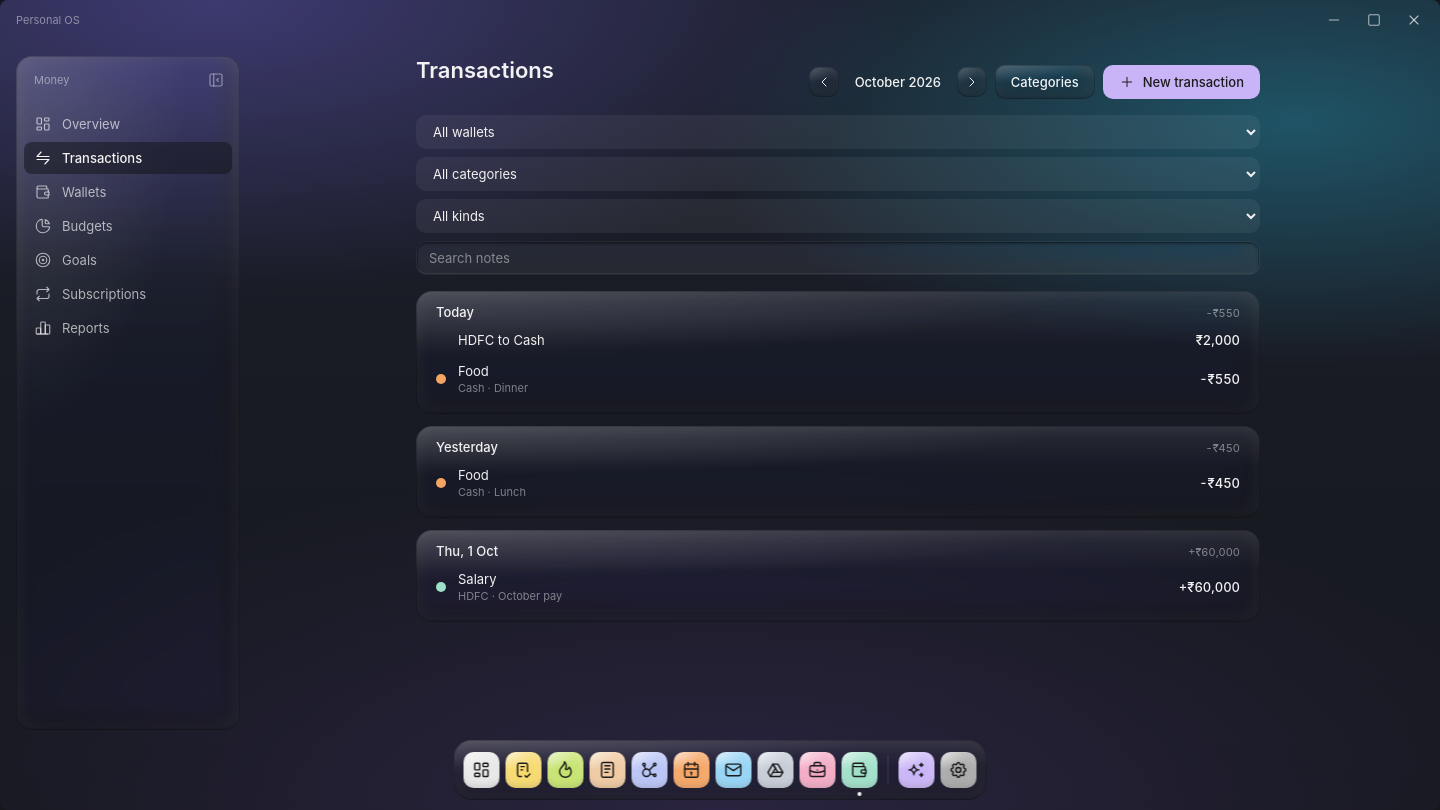
Transactions list › moves to the previous month with the buttons and shows September
Expected: the heading "Transactions" is shown, [416,56,554,84]
Expected: the element "Today" is shown, [416,291,1260,414]
Click the button named "Previous month" at {"x": 824, "y": 82}, box [809,67,839,97]
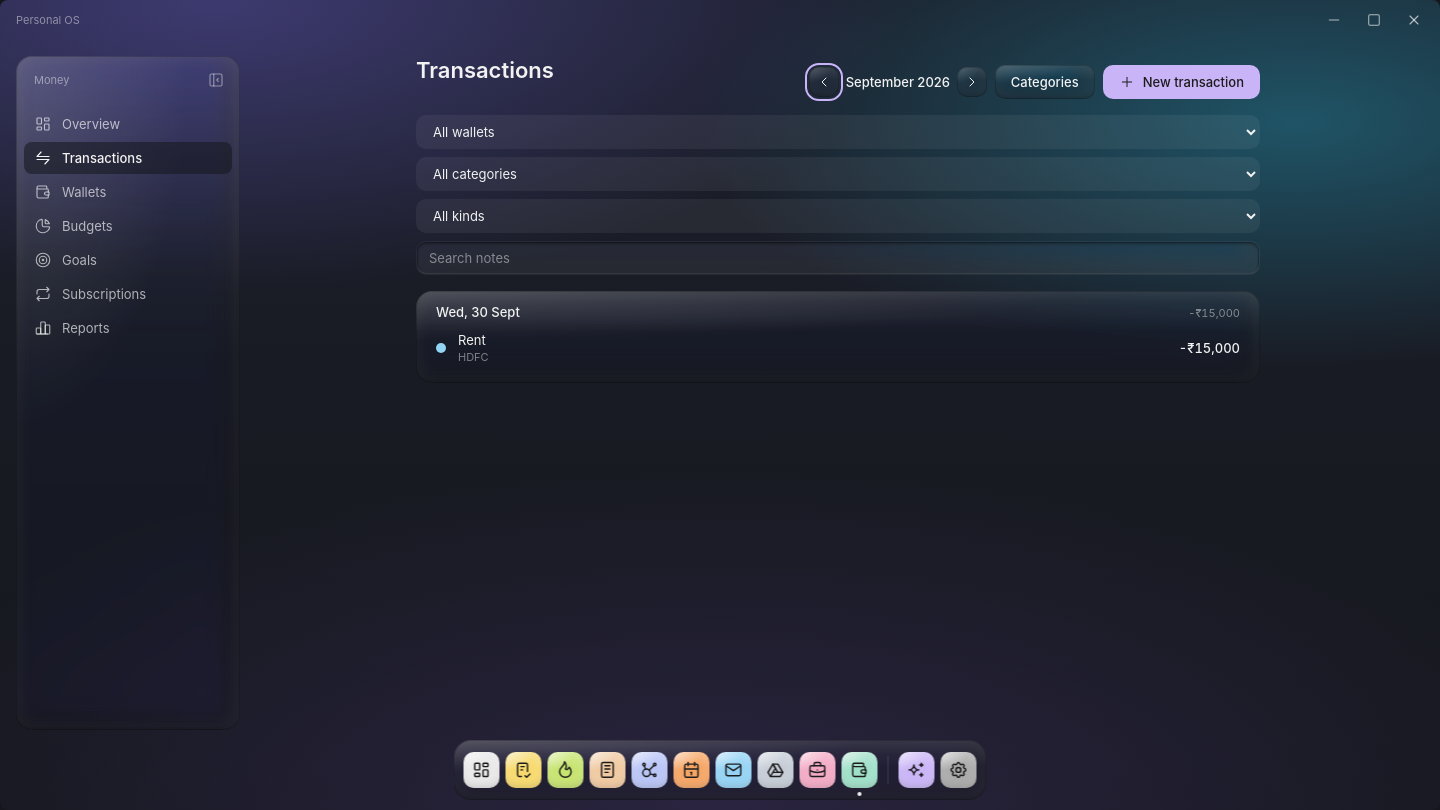
Result: the button with aria-label "Edit Rent, -₹15,000" is shown at [428,325,1248,371]
